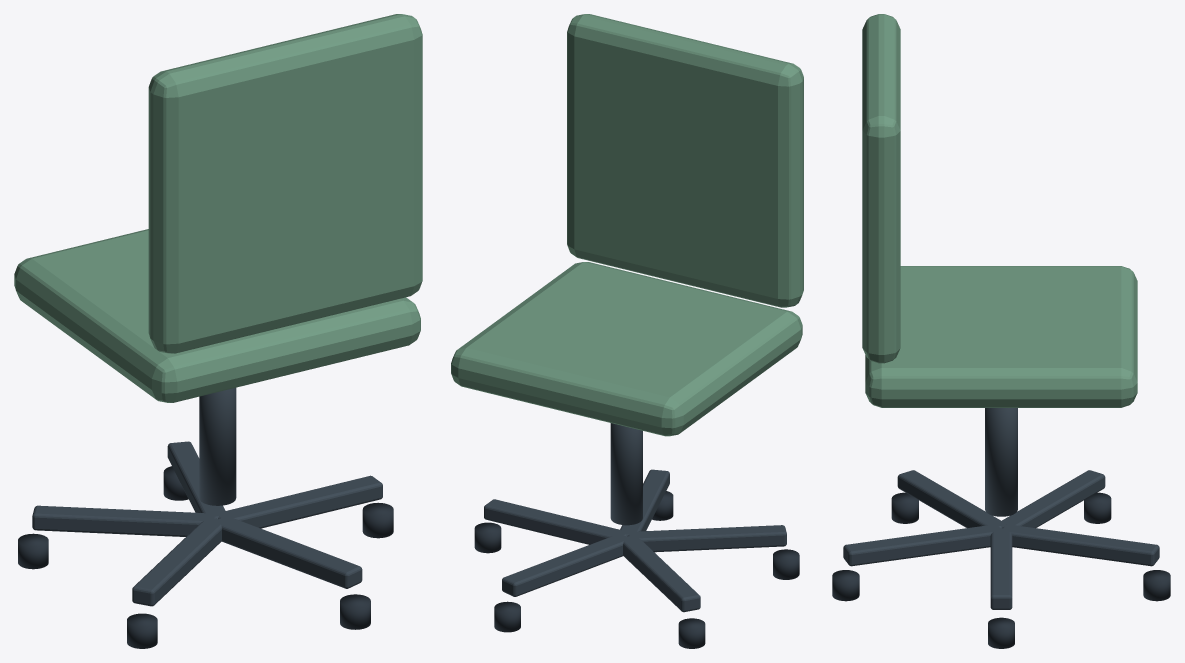
The model's file is office_chair.glb.
The picture shows the model from 3 angles, left to right: view 1: azimuth 30°, elevation 25°; view 2: azimuth 150°, elevation 25°; view 3: azimuth 270°, elevation 25°; orthographic projection. The views are drawn at different scales.
Parts seen in each view (by area): view 1: back, seat, column, foot.003, foot.001, foot, foot.002, foot.004, wheel, wheel.002, wheel.001, wheel.003 (+1 smaller); view 2: back, seat, column, foot.002, foot.004, foot, foot.003, foot.001, wheel.003, wheel, wheel.002, wheel.004; view 3: seat, back, column, foot.001, foot.004, foot.002, foot.003, foot, wheel.001, wheel.004, wheel, wheel.002 (+1 smaller).
Boxes of the visible parts, left/top/right/bottom form: back: left=148, top=14, right=422, bottom=353; seat: left=14, top=229, right=420, bottom=402; column: left=199, top=387, right=236, bottom=505; foot.003: left=32, top=505, right=216, bottom=536; foot.001: left=214, top=518, right=362, bottom=588; foot: left=216, top=475, right=382, bottom=528; foot.002: left=132, top=517, right=221, bottom=606; foot.004: left=167, top=441, right=225, bottom=518; wheel: left=362, top=502, right=393, bottom=538; wheel.002: left=127, top=613, right=157, bottom=648; wheel.001: left=340, top=594, right=370, bottom=629; wheel.003: left=18, top=533, right=48, bottom=569; back: left=567, top=14, right=803, bottom=307; seat: left=451, top=262, right=802, bottom=436; column: left=610, top=423, right=642, bottom=525; foot.002: left=628, top=525, right=786, bottom=552; foot.004: left=502, top=535, right=629, bottom=596; foot: left=484, top=499, right=627, bottom=544; foot.003: left=623, top=536, right=700, bottom=612; foot.001: left=620, top=469, right=669, bottom=536; wheel.003: left=678, top=618, right=705, bottom=648; wheel: left=474, top=522, right=501, bottom=553; wheel.002: left=773, top=549, right=799, bottom=579; wheel.004: left=494, top=601, right=520, bottom=632; seat: left=865, top=266, right=1137, bottom=407; back: left=862, top=14, right=900, bottom=363; column: left=985, top=408, right=1017, bottom=516; foot.001: left=843, top=524, right=1000, bottom=566; foot.004: left=1002, top=524, right=1159, bottom=566; foot.002: left=897, top=470, right=1005, bottom=528; foot.003: left=1001, top=470, right=1105, bottom=527; foot: left=990, top=528, right=1012, bottom=609; wheel.001: left=832, top=570, right=859, bottom=601; wheel.004: left=1143, top=570, right=1170, bottom=601; wheel: left=988, top=617, right=1014, bottom=648; wheel.002: left=891, top=492, right=918, bottom=523.
Bounding box in the file's own units: 0.5927 × 1.03 × 0.6206.
